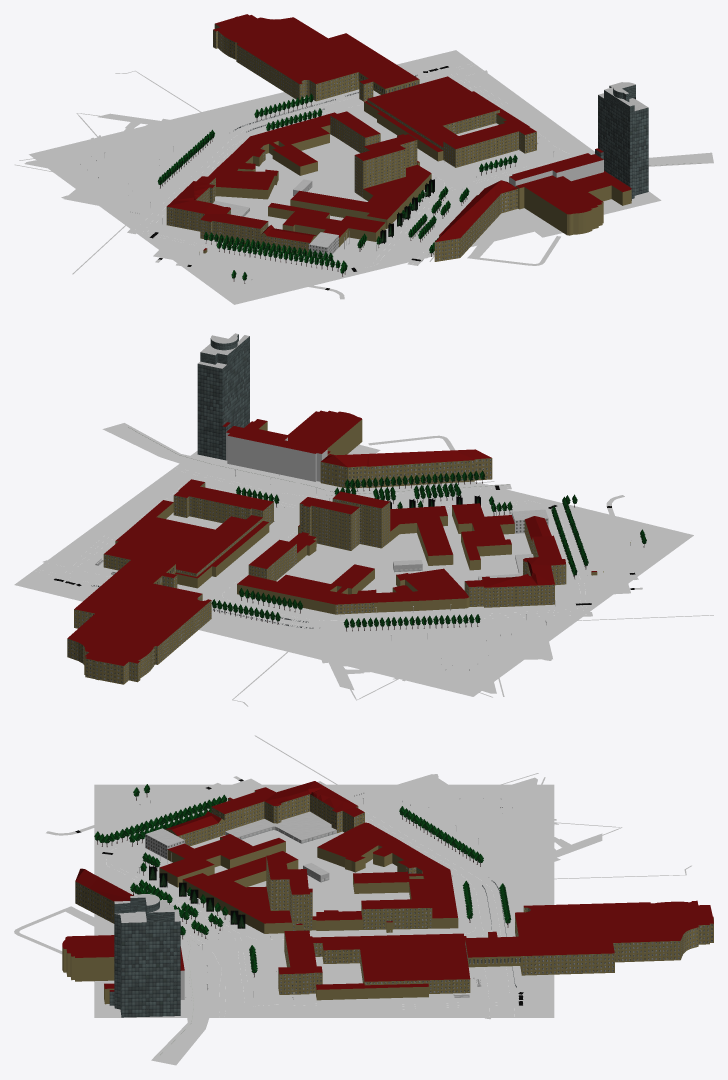
3 views of the same model, one above another, from view 1: azimuth 30°, elevation 25°; view 2: azimuth 150°, elevation 25°; view 3: azimuth 270°, elevation 25° (orthographic). The views are drawn at different scales.
Parts seen in each view (by area): view 1: SurfaceArea714, Building Viru Keskus, Building Tallinna Kaubamaja, Building Radisson Collection Hotel, SurfaceArea715, Building654, Building687, Building708, SurfaceParking660, Building691, Road Estonia pst, Road Rävala pst (+38 smaller); view 2: SurfaceArea714, Building Viru Keskus, Building Radisson Collection Hotel, Building Tallinna Kaubamaja, Building708, SurfaceArea715, Building687, SurfaceParking660, Building705, Building691, Road Estonia pst, Building712 (+31 smaller); view 3: SurfaceArea714, Building Viru Keskus, Building Radisson Collection Hotel, SurfaceArea715, Building Tallinna Kaubamaja, Building687, Road Estonia pst, Road Rävala pst, Building654, Building691, SurfaceParking642, SurfaceParking660 (+37 smaller).
Boxes of the visible parts, x1=… form: SurfaceArea714: x1=29, y1=89, x2=533, y2=304; Building Viru Keskus: x1=213, y1=14, x2=419, y2=101; Building Tallinna Kaubamaja: x1=367, y1=76, x2=499, y2=150; Building Radisson Collection Hotel: x1=595, y1=82, x2=648, y2=200; SurfaceArea715: x1=397, y1=50, x2=661, y2=214; Building654: x1=515, y1=175, x2=603, y2=235; Building687: x1=166, y1=176, x2=268, y2=246; Building708: x1=434, y1=180, x2=518, y2=261; SurfaceParking660: x1=255, y1=136, x2=367, y2=201; Building691: x1=443, y1=118, x2=536, y2=167; Road Estonia pst: x1=127, y1=104, x2=339, y2=234; Road Rävala pst: x1=369, y1=155, x2=569, y2=266; SurfaceArea714: x1=177, y1=472, x2=693, y2=696; Building Viru Keskus: x1=67, y1=555, x2=211, y2=684; Building Radisson Collection Hotel: x1=197, y1=333, x2=253, y2=460; Building Tallinna Kaubamaja: x1=103, y1=515, x2=262, y2=576; Building708: x1=320, y1=449, x2=492, y2=488; SurfaceArea715: x1=14, y1=451, x2=269, y2=601; Building687: x1=464, y1=535, x2=566, y2=607; SurfaceParking660: x1=276, y1=533, x2=428, y2=592; Building705: x1=226, y1=426, x2=327, y2=481; Building691: x1=173, y1=479, x2=273, y2=525; Road Estonia pst: x1=210, y1=597, x2=592, y2=627; Building712: x1=299, y1=497, x2=359, y2=550; SurfaceArea714: x1=94, y1=784, x2=554, y2=979; Building Viru Keskus: x1=465, y1=900, x2=713, y2=975; Building Radisson Collection Hotel: x1=109, y1=894, x2=180, y2=1017; SurfaceArea715: x1=94, y1=979, x2=554, y2=1017; Building Tallinna Kaubamaja: x1=312, y1=933, x2=470, y2=993; Building687: x1=211, y1=781, x2=364, y2=834; Road Estonia pst: x1=317, y1=781, x2=505, y2=935; Road Rävala pst: x1=101, y1=864, x2=252, y2=1017; Building654: x1=62, y1=935, x2=114, y2=981; Building691: x1=278, y1=930, x2=322, y2=994; SurfaceParking642: x1=151, y1=964, x2=211, y2=1065; SurfaceParking660: x1=248, y1=863, x2=409, y2=916.
Bounding box in the file's own units: 509 × 80 × 456.
